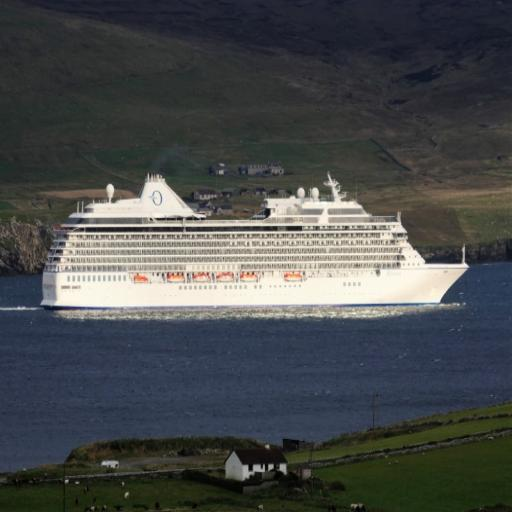cruises: (40, 157, 482, 337)
